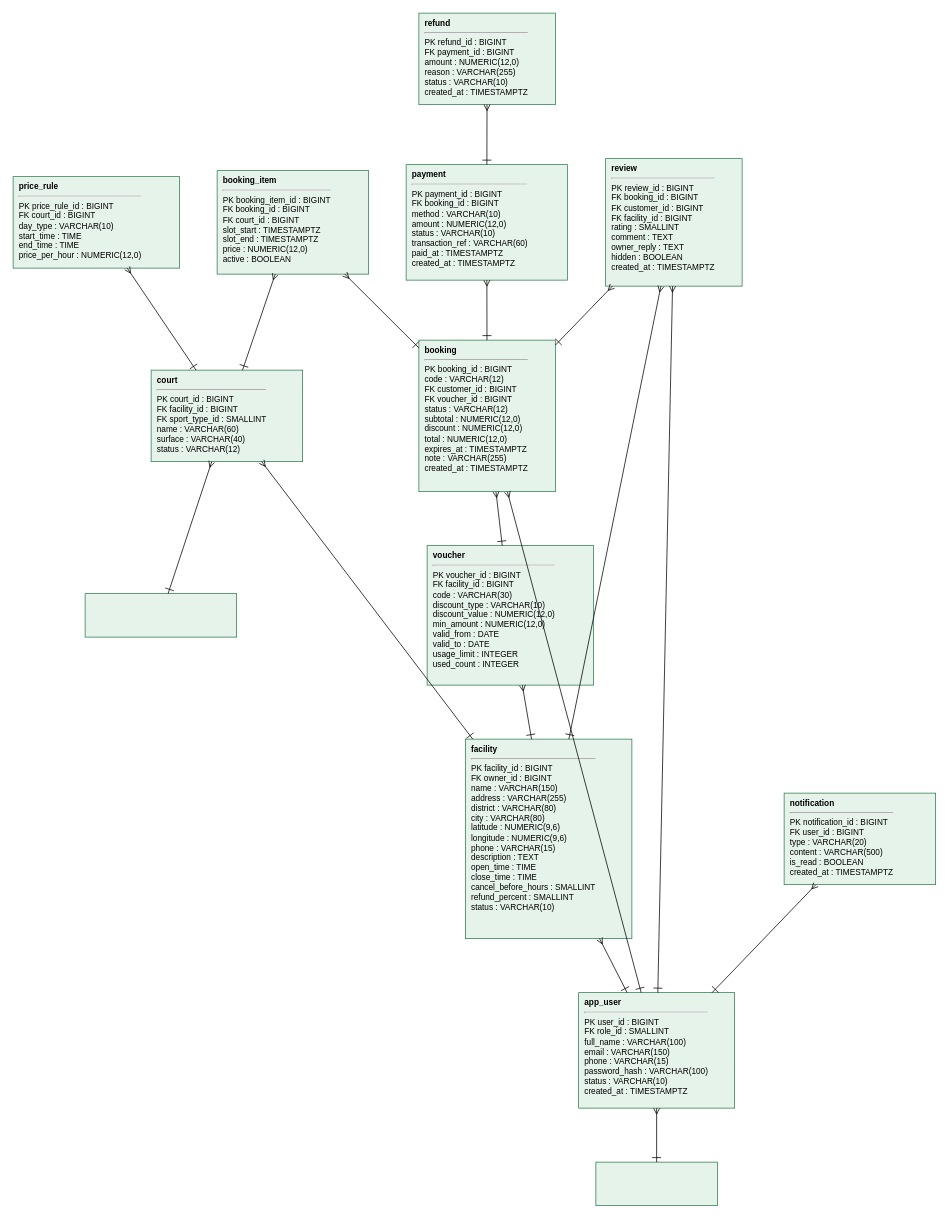
Some shapes in this 949 by 1220 pixel diagram are drawn without their labels. The box of each missing label's shape, as (x1, y1, x2, y2) in pixels:
role PK role_id : SMALLINT name : VARCHAR(30): (595, 1161, 717, 1206)
sport_type PK sport_type_id : SMALLINT name : VARCHAR(50): (84, 593, 237, 637)
